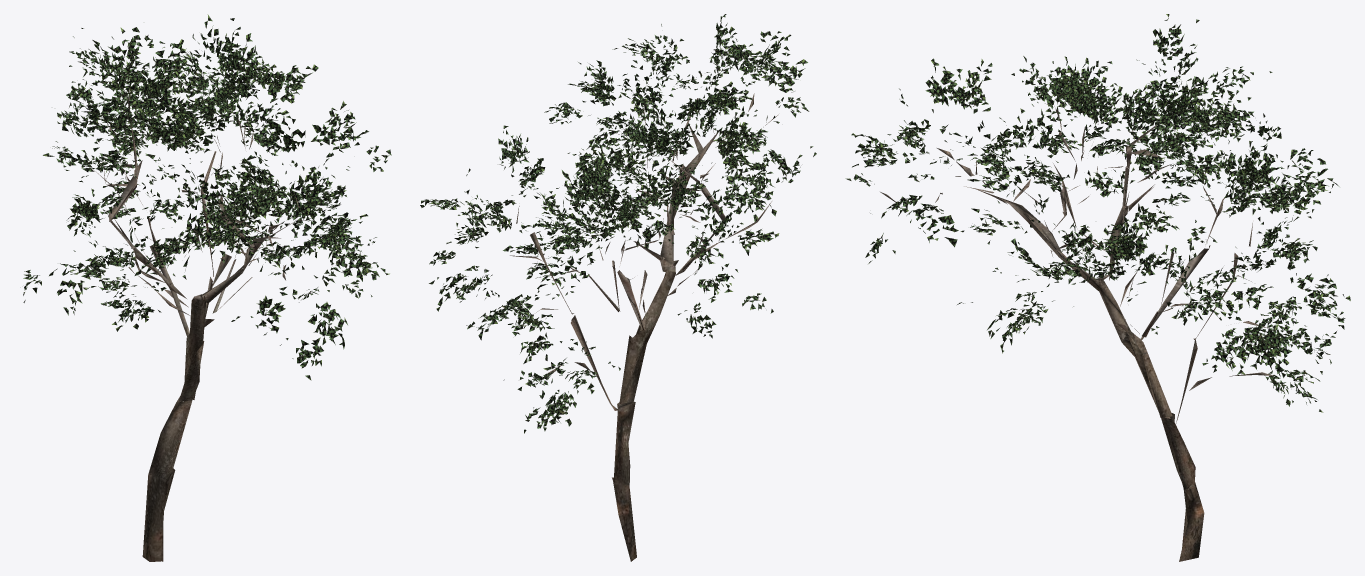
The model's file is tree_small.glb.
The picture shows the model from 3 angles, left to right: view 1: azimuth 30°, elevation 25°; view 2: azimuth 150°, elevation 25°; view 3: azimuth 270°, elevation 25°; orthographic projection. The views are drawn at different scales.
Parts seen in each view (by area): view 1: tree_small_02_LOD0; view 2: tree_small_02_LOD0; view 3: tree_small_02_LOD0.
Boxes of the visible parts, x1,y1,x2,y2 form: tree_small_02_LOD0: (23, 14, 391, 561); tree_small_02_LOD0: (420, 14, 816, 561); tree_small_02_LOD0: (845, 14, 1350, 561).
Size of the model in its own units: 2.86 by 4.54 by 4.1.
Materials: 3 (3 with a texture image).
